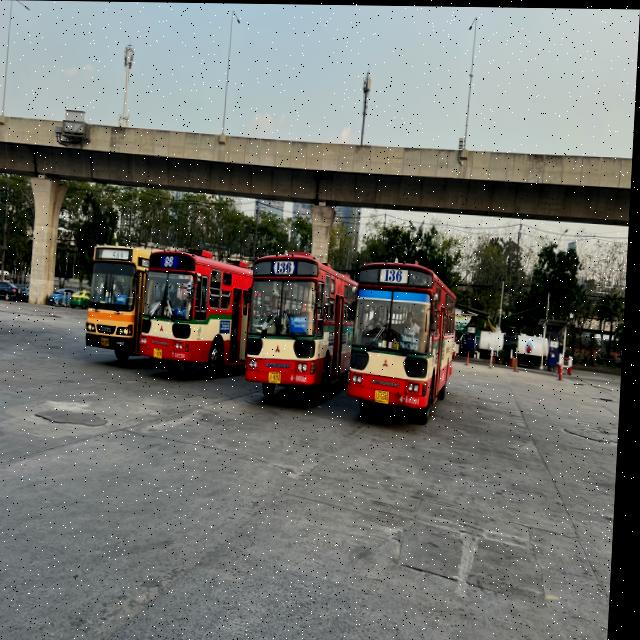BMTA-bus: (349, 258, 465, 425), (247, 251, 360, 405), (129, 247, 259, 379), (86, 244, 148, 365)
Bus-Line-Number: (385, 266, 410, 283), (275, 261, 300, 275), (163, 254, 181, 269), (113, 249, 128, 259)
Destination-Sign-Normal: (402, 332, 426, 350), (292, 316, 311, 334), (178, 305, 192, 318), (120, 295, 131, 304)
